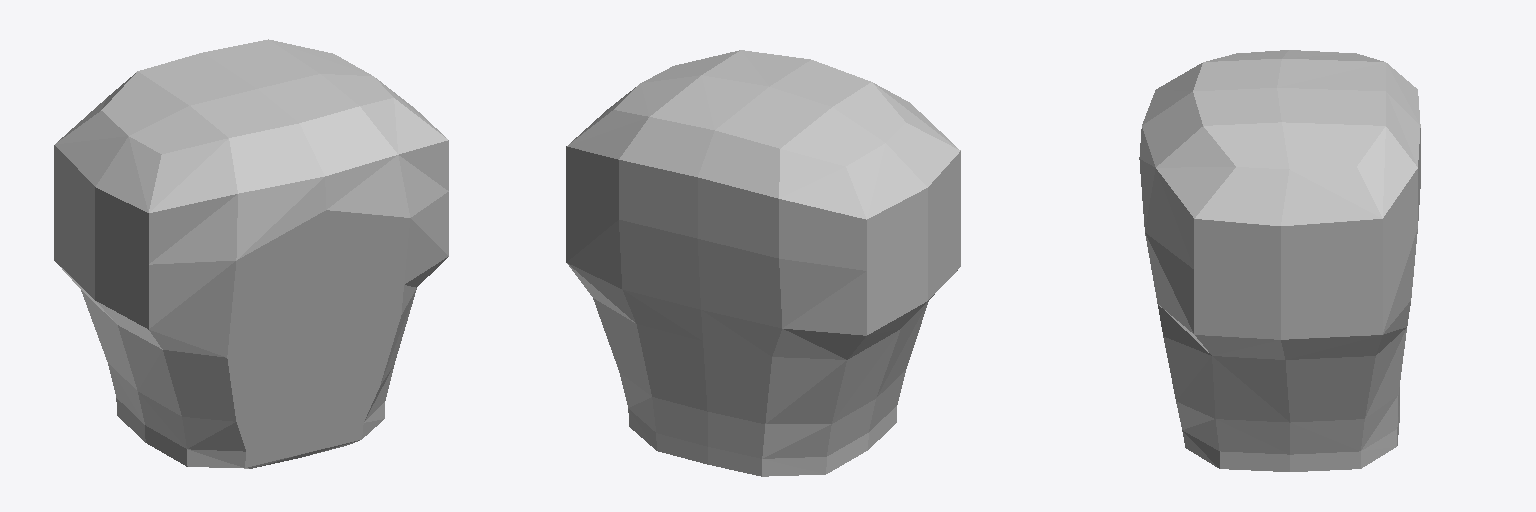
Rendered from dummytorso.obj.
3 renders of one model, left to right at view 1: azimuth 30°, elevation 25°; view 2: azimuth 150°, elevation 25°; view 3: azimuth 270°, elevation 25°, orthographic.
Size of the model in its own units: 29.3 by 29.4 by 22.27.